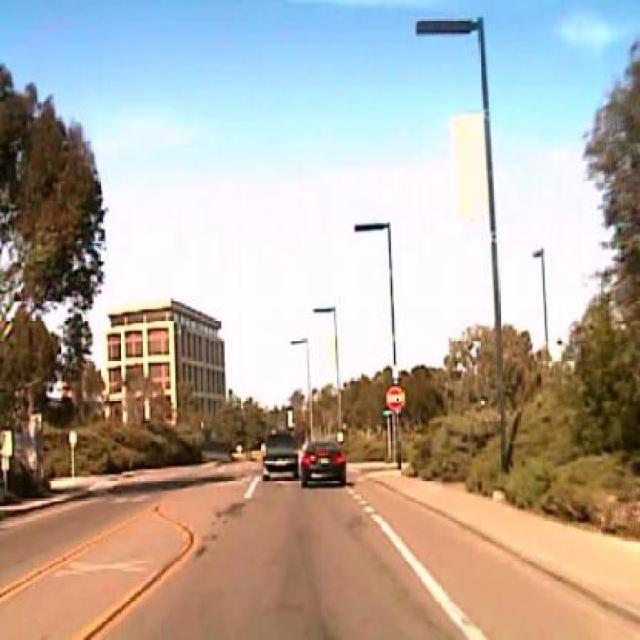stop: (388, 384, 406, 410)
